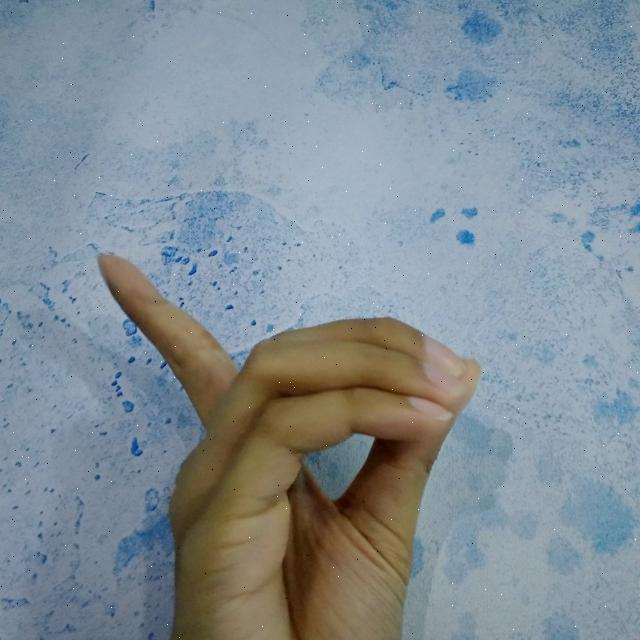D: (91, 248, 484, 640)
